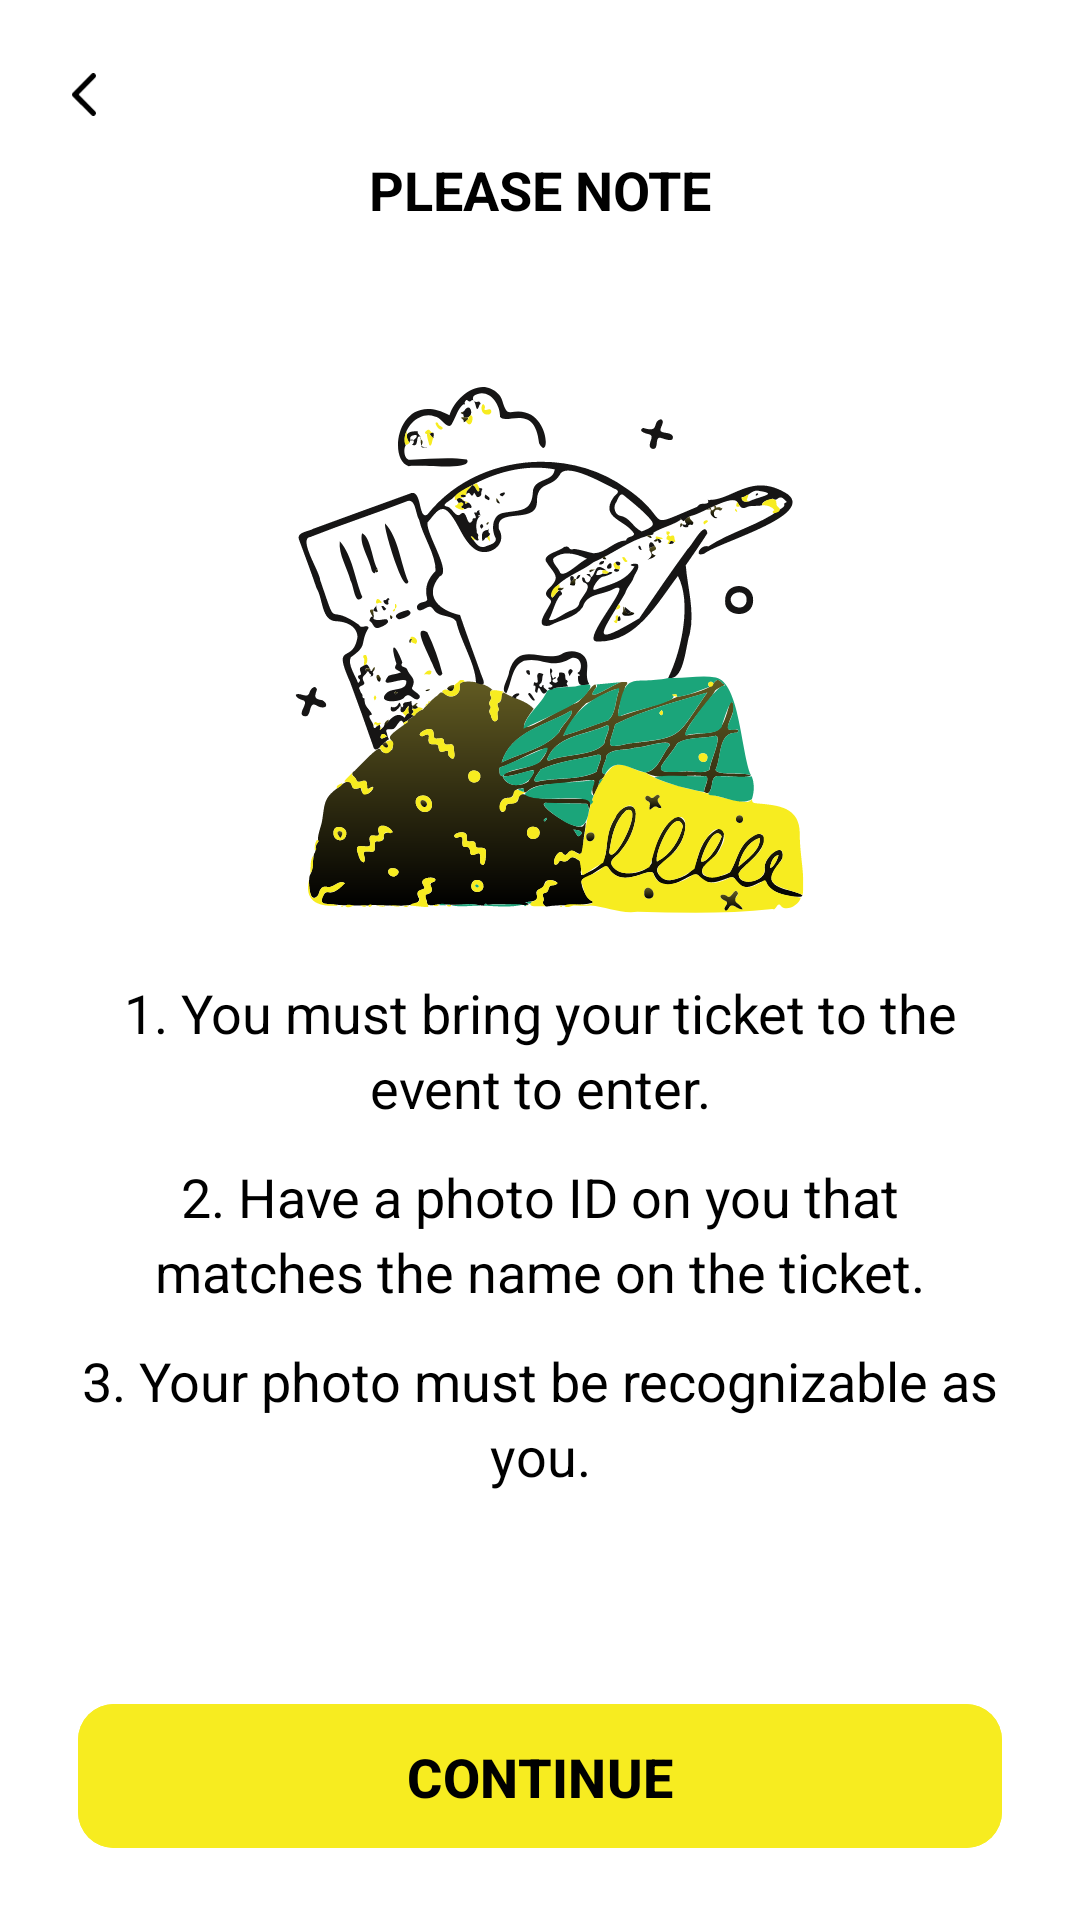

Icons on this 1080px×1920px Android screen, each with the point to tap as (x=x, y=y):
back button: (x=84, y=94)
